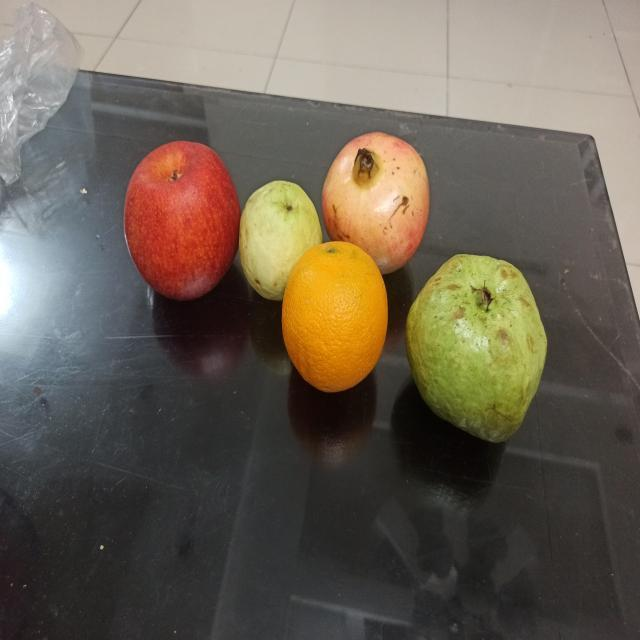apple: (124, 140, 240, 301)
